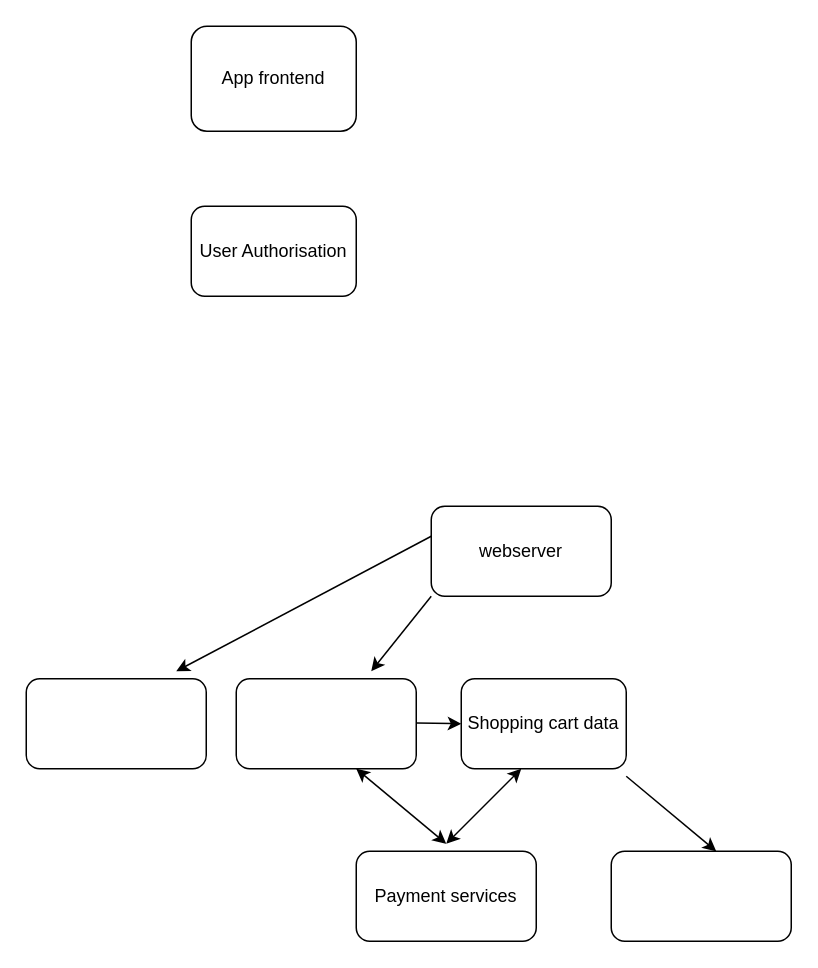
Image size: 818x968. Some labels were removed from this diagram. The shapes that lost their labels are listed below. From the top down, each one's box as (x1, y1, x2, y2) in pixels, then its label:
(25, 677, 206, 769): User management
(235, 677, 416, 769): Processing orders
(610, 850, 791, 941): API
